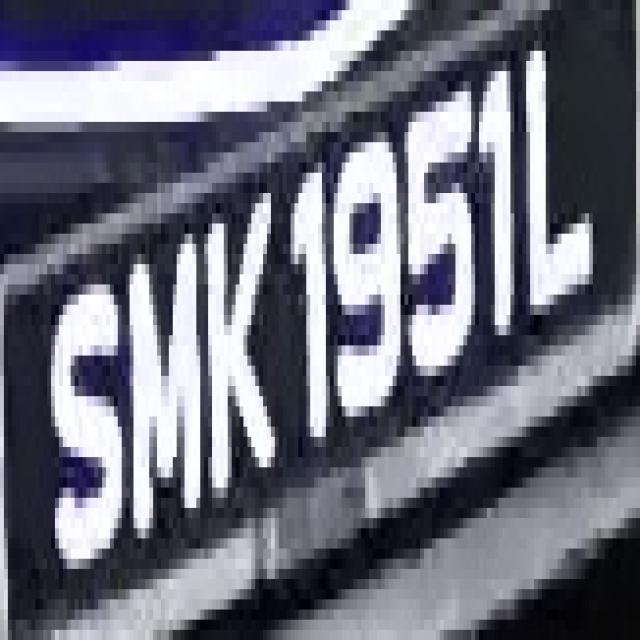1: (286, 142, 342, 498), (479, 51, 518, 386)
5: (401, 81, 479, 406)
9: (322, 122, 408, 427)
K: (192, 183, 275, 508)
L: (518, 51, 601, 345)
M: (114, 203, 208, 528)
S: (40, 234, 134, 589)
